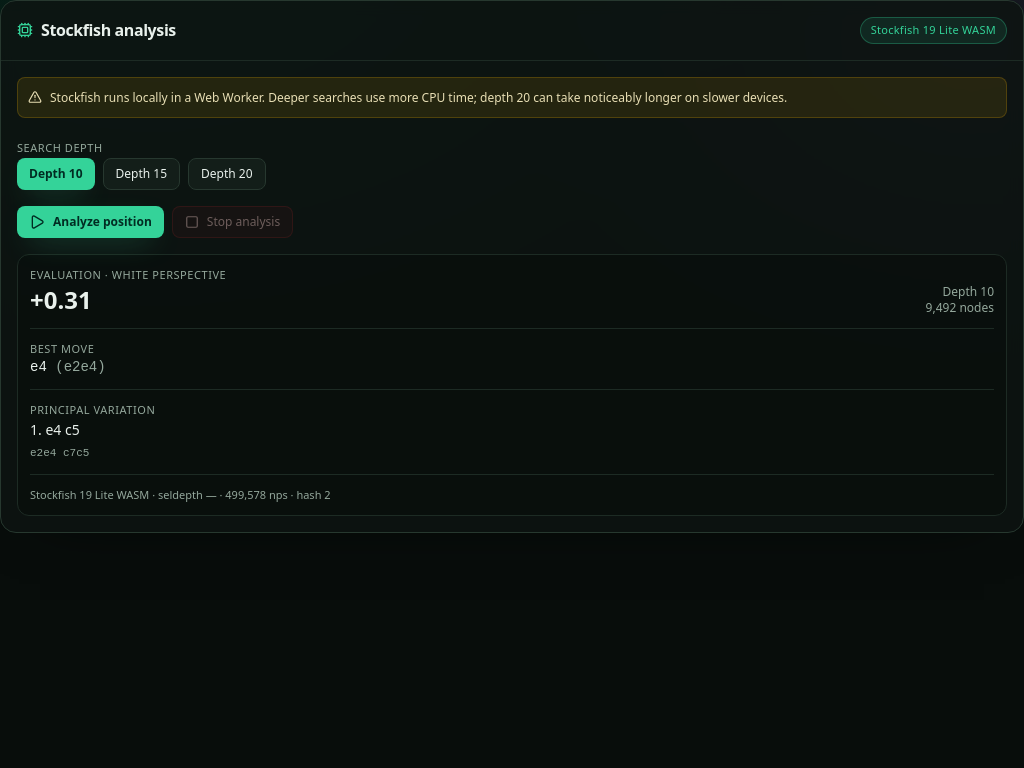
EngineAnalysisPanel › renders depth presets and sends the selected depth
Later steps or results of the test are not shown.
Expected: the element named "Search depth" is shown, x1=17 y1=158 x2=266 y2=190
Click the button "Depth 15" at point(141, 174), box x1=102 y1=158 x2=180 y2=190
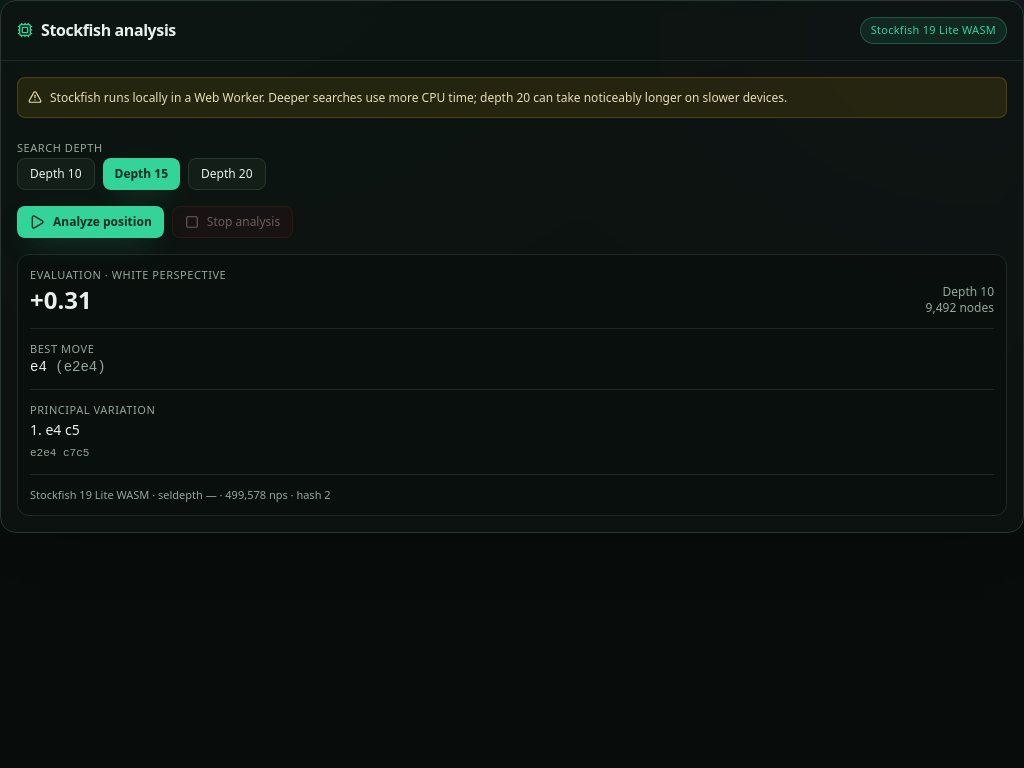
Result: the button "Depth 15" is pressed at x1=102 y1=158 x2=180 y2=190
